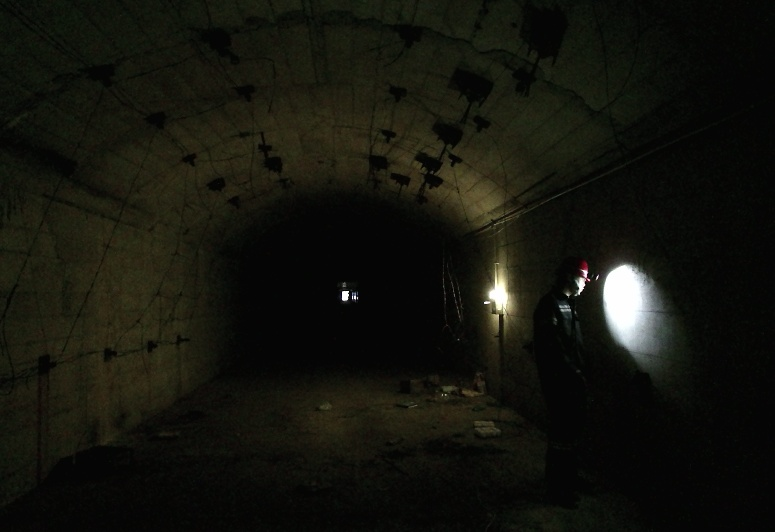person: (537, 258, 597, 492)
